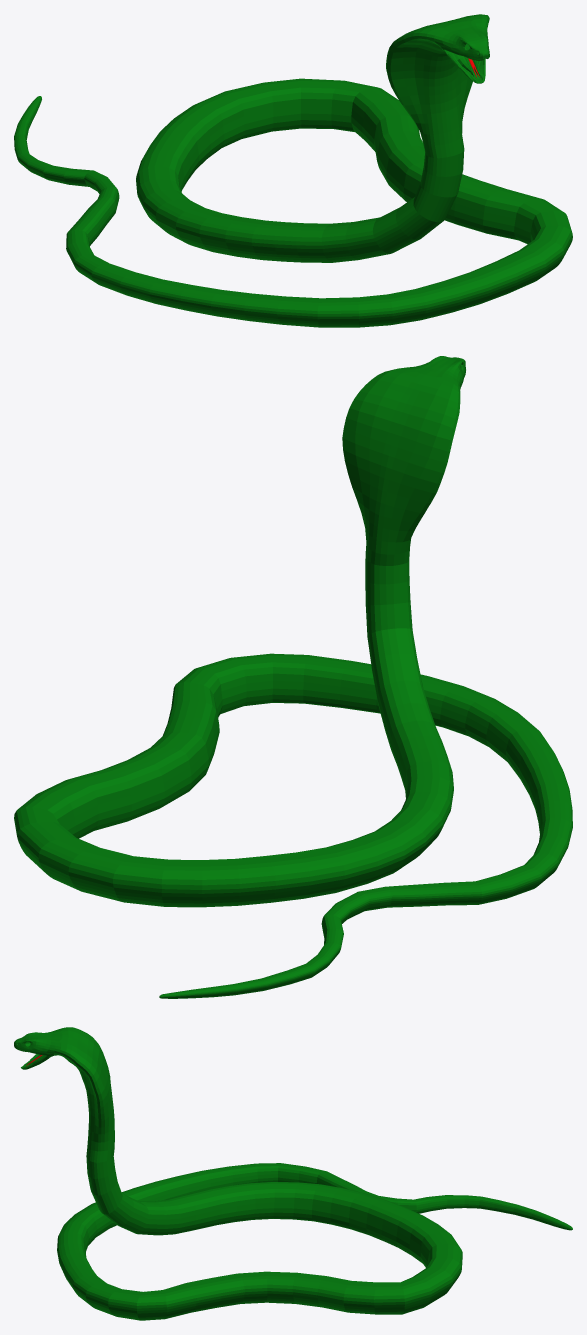
Rendered from Snake Boss.fbx.
The picture shows the model from 3 angles, top to bottom: view 1: azimuth 30°, elevation 25°; view 2: azimuth 150°, elevation 25°; view 3: azimuth 270°, elevation 25°; orthographic projection. The views are drawn at different scales.
Parts seen in each view (by area): view 1: snake:pCube1; view 2: snake:pCube1; view 3: snake:pCube1.
Boxes of the visible parts, x1,y1,x2,y2 form: snake:pCube1: (14, 14, 572, 327); snake:pCube1: (14, 356, 572, 998); snake:pCube1: (14, 1027, 572, 1320).
Bounding box in the file's own units: 3.3 × 2.35 × 5.08.
